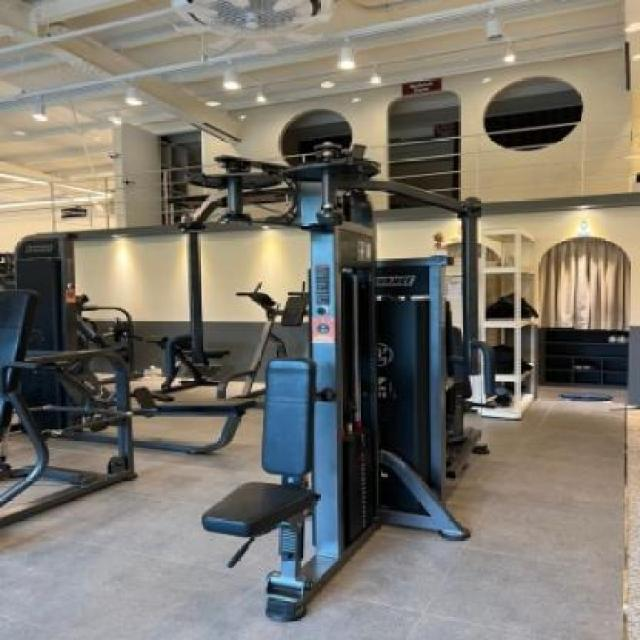chest fly machine: (100, 140, 563, 617)
